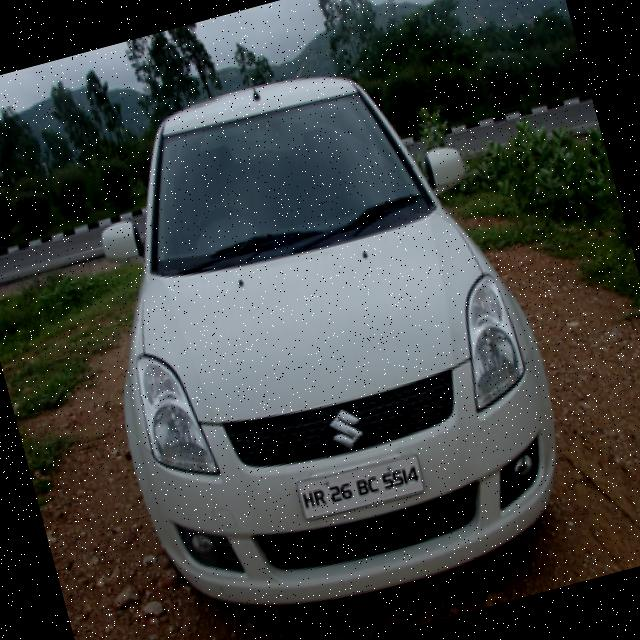Autre: (289, 448, 430, 532)
